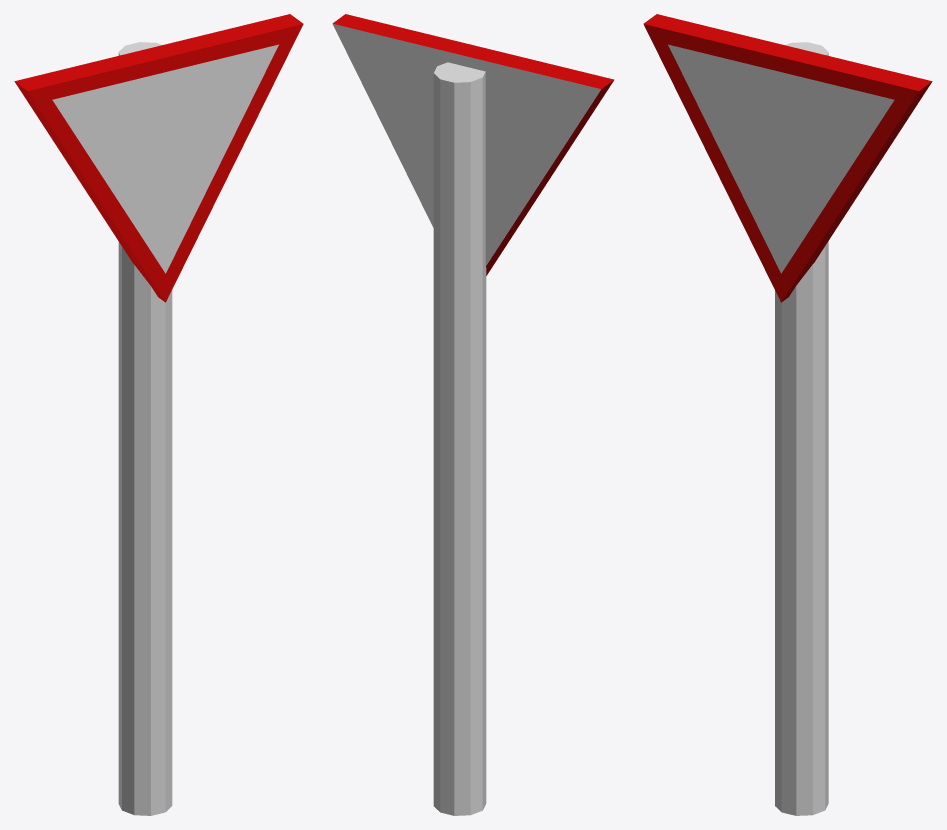
Rendered from Street Sign 3.fbx.
3 views of the same model, side by side, from view 1: azimuth 30°, elevation 25°; view 2: azimuth 150°, elevation 25°; view 3: azimuth 330°, elevation 25° (orthographic). The views are drawn at different scales.
Visible parts, largest first — view 1: Street_Sign_3; view 2: Street_Sign_3; view 3: Street_Sign_3.
Part boxes in pixels (<box>): Street_Sign_3: <box>14,14,303,815</box>; Street_Sign_3: <box>332,14,613,815</box>; Street_Sign_3: <box>643,14,932,815</box>.
Size of the model in its own units: 41.44 by 109 by 8.67.
1 material, 1 textured.
